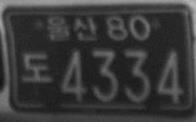0: (128, 14, 150, 42)
3: (91, 49, 118, 103), (123, 49, 150, 103)
4: (156, 50, 183, 105), (60, 50, 87, 102)
8: (106, 15, 127, 40)
도: (22, 52, 52, 83)
울산_O: (46, 15, 98, 41)
